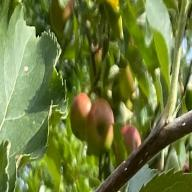Apples: (87, 100, 113, 152), (72, 95, 91, 137), (121, 125, 141, 155)
